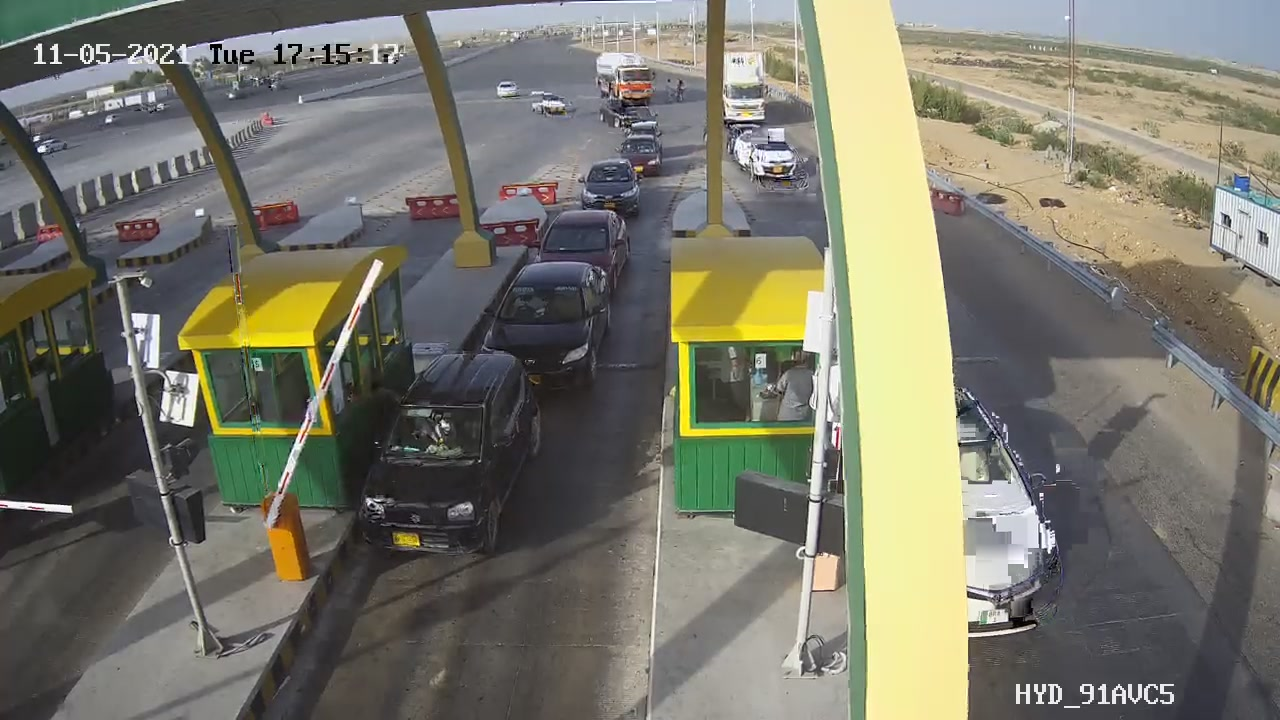F1: (348, 340, 565, 574), (461, 253, 629, 413)
